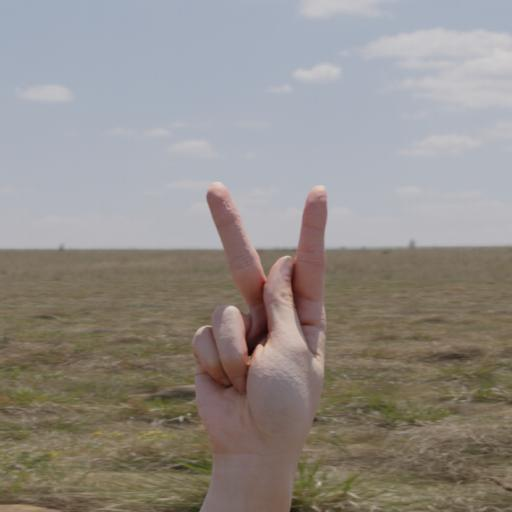K: (186, 176, 343, 457)
